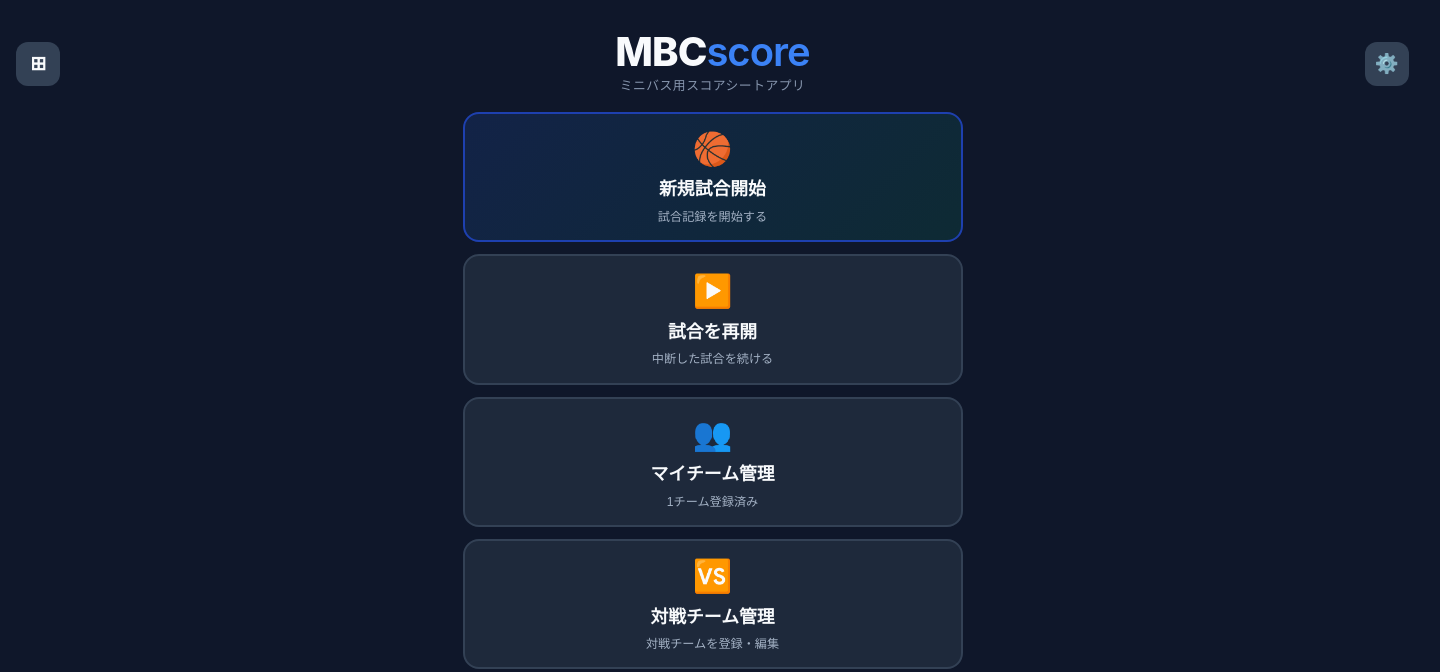
Test case: 端末の戻る操作: スコアシート画面 › 試合中の様式には「閉じる」がある（画面上で唯一の戻り手段）
The image size is (1440, 672).
Click the text "試合を再開" at [713, 330], box [668,317,757,343]
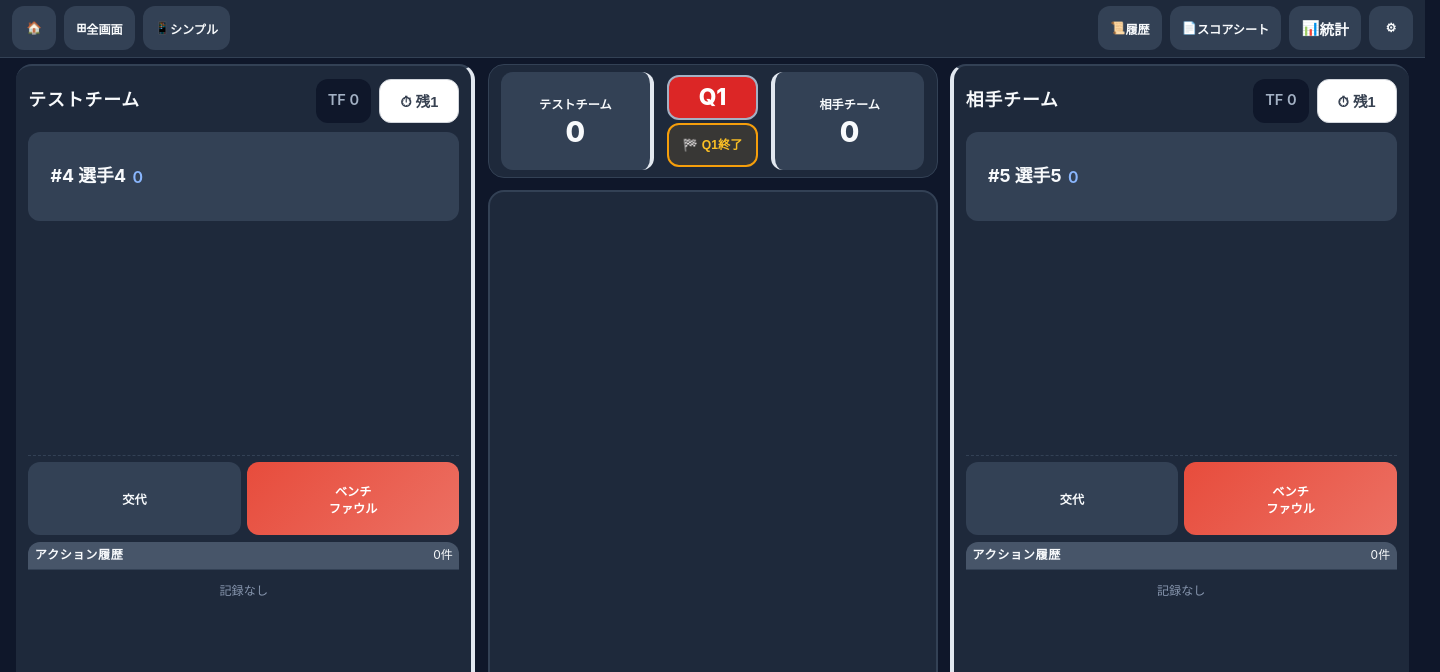
Click the button "📄 スコアシート" at [1225, 28], box [1170,6,1281,50]
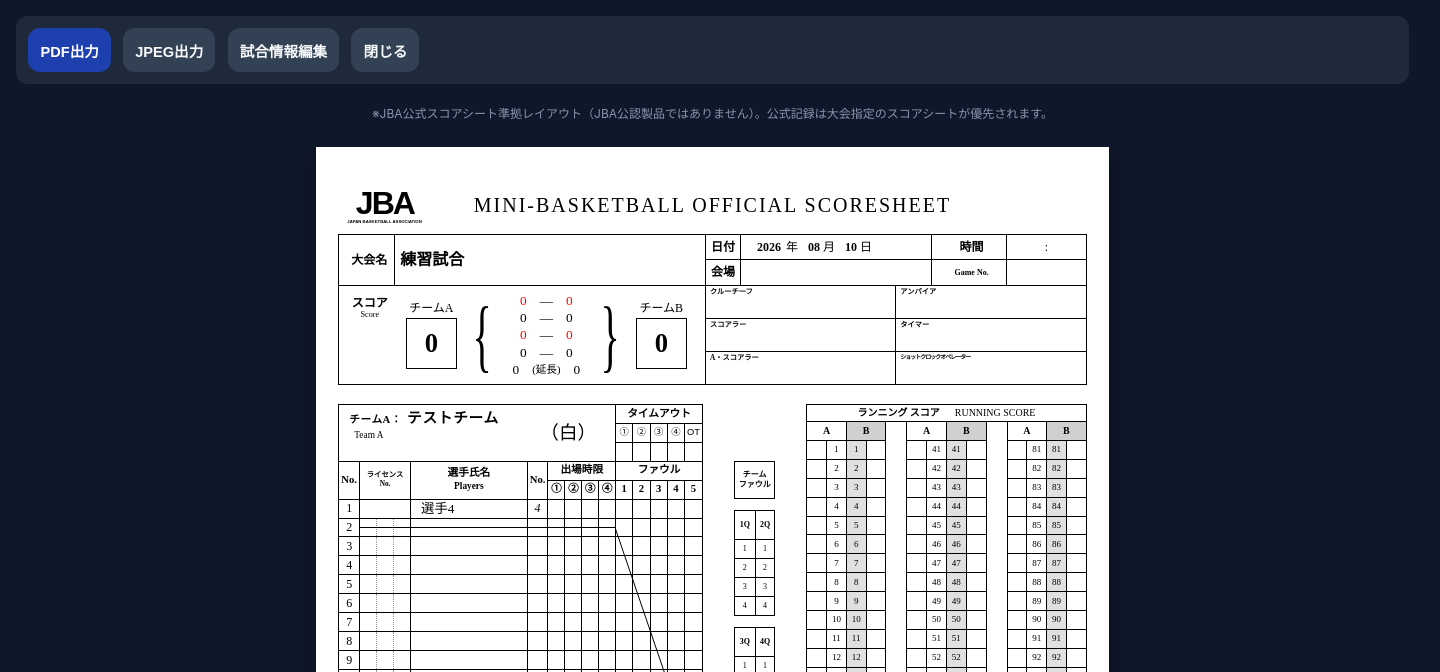
Result: the button "PDF出力" is shown at [28,28,111,72]
Click the button "閉じる" at [385, 50], box [351,28,419,72]
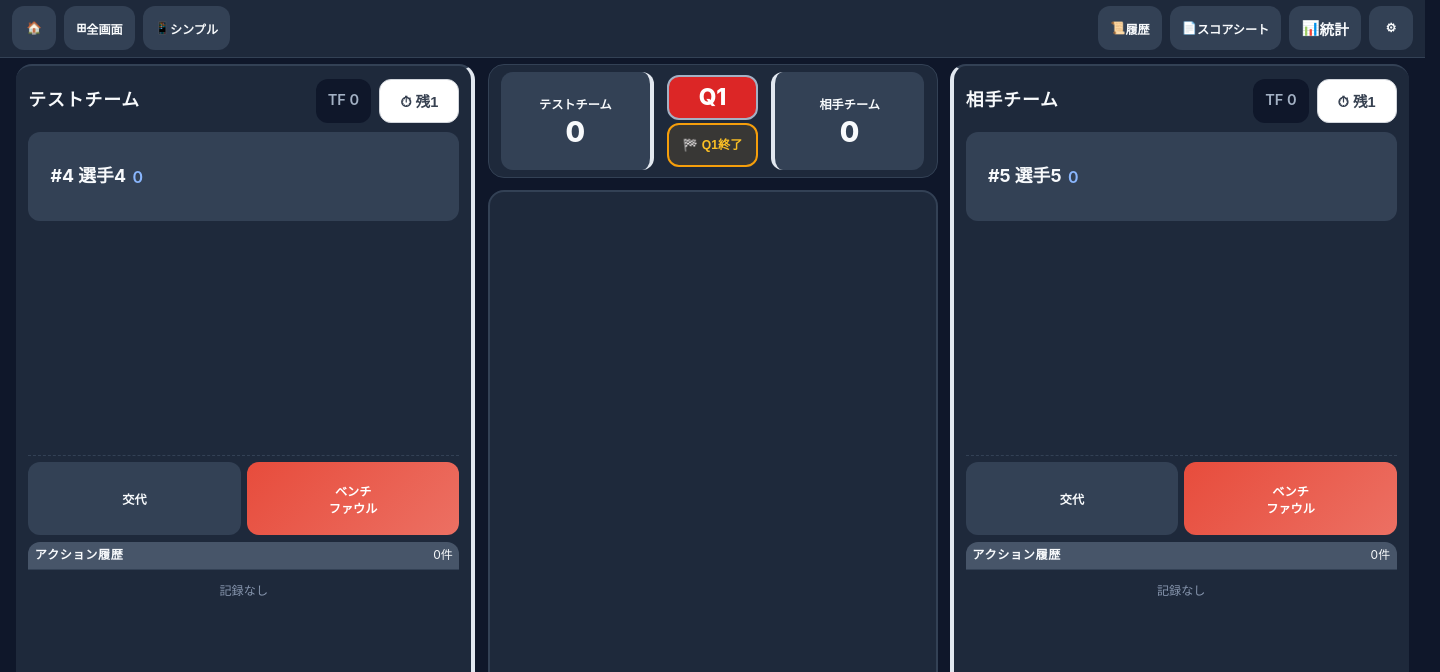
Result: the button "📄 スコアシート" is shown at [1170,6,1281,50]
Result: the button "PDF出力" is gone
